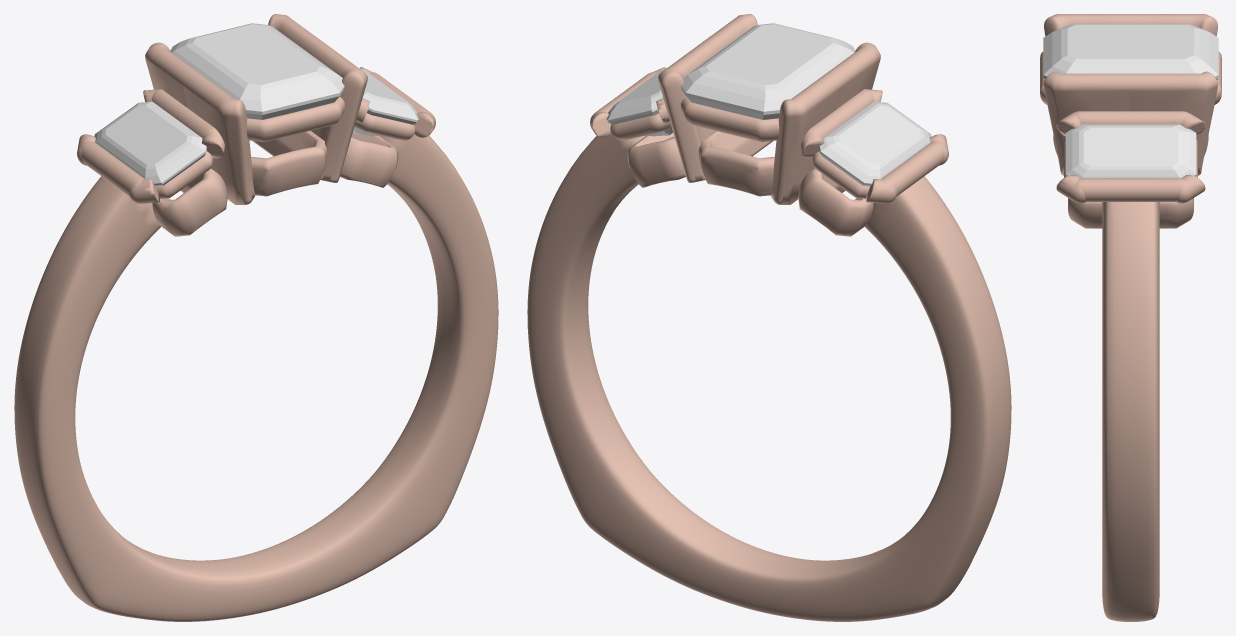
File: diamond-emerald-rosegold-halfmoonbezel-europeanshank-3stone.glb
3 renders of one model, left to right at view 1: azimuth 30°, elevation 25°; view 2: azimuth 150°, elevation 25°; view 3: azimuth 270°, elevation 25°, orthographic.
Visible parts, largest first — view 1: metal.002, stone.002, side.002, side.003; view 2: metal.002, stone.002, side.002, side.003; view 3: metal.002, stone.002, side.003.
Part boxes in pixels (x1,y1,x2,y2): metal.002: [14, 14, 498, 621]; stone.002: [170, 23, 344, 119]; side.002: [94, 101, 206, 186]; side.003: [353, 68, 418, 136]; metal.002: [527, 14, 1011, 621]; stone.002: [681, 23, 855, 119]; side.002: [819, 101, 931, 186]; side.003: [607, 68, 672, 136]; metal.002: [1040, 14, 1221, 621]; stone.002: [1043, 24, 1218, 79]; side.003: [1065, 124, 1196, 178].
Size of the model in its own units: 20.1 by 22.75 by 6.94.
